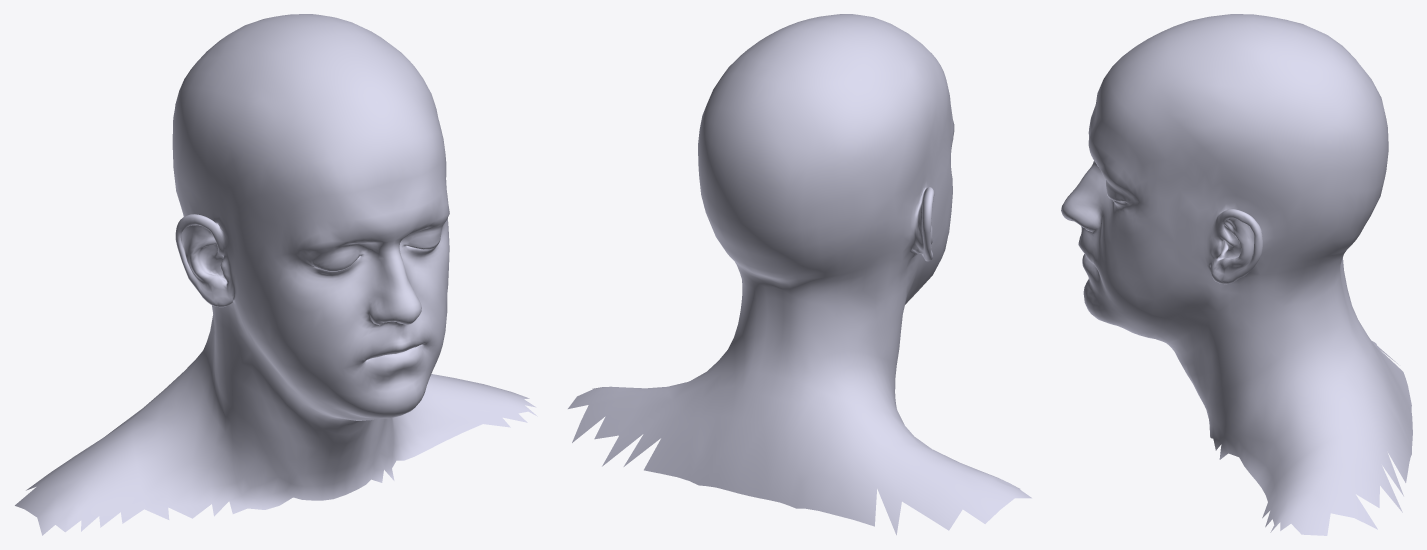
File: head-cropped.glb
The picture shows the model from 3 angles, left to right: view 1: azimuth 30°, elevation 25°; view 2: azimuth 150°, elevation 25°; view 3: azimuth 270°, elevation 25°; orthographic projection. The views are drawn at different scales.
Parts seen in each view (by area): view 1: LeePerrySmith; view 2: LeePerrySmith; view 3: LeePerrySmith.
Boxes of the visible parts, left/top/right/bottom form: LeePerrySmith: left=15, top=14, right=537, bottom=535; LeePerrySmith: left=568, top=14, right=1031, bottom=535; LeePerrySmith: left=1061, top=14, right=1412, bottom=535.
Bounding box in the file's own units: 3.01 × 2.7 × 2.06.
